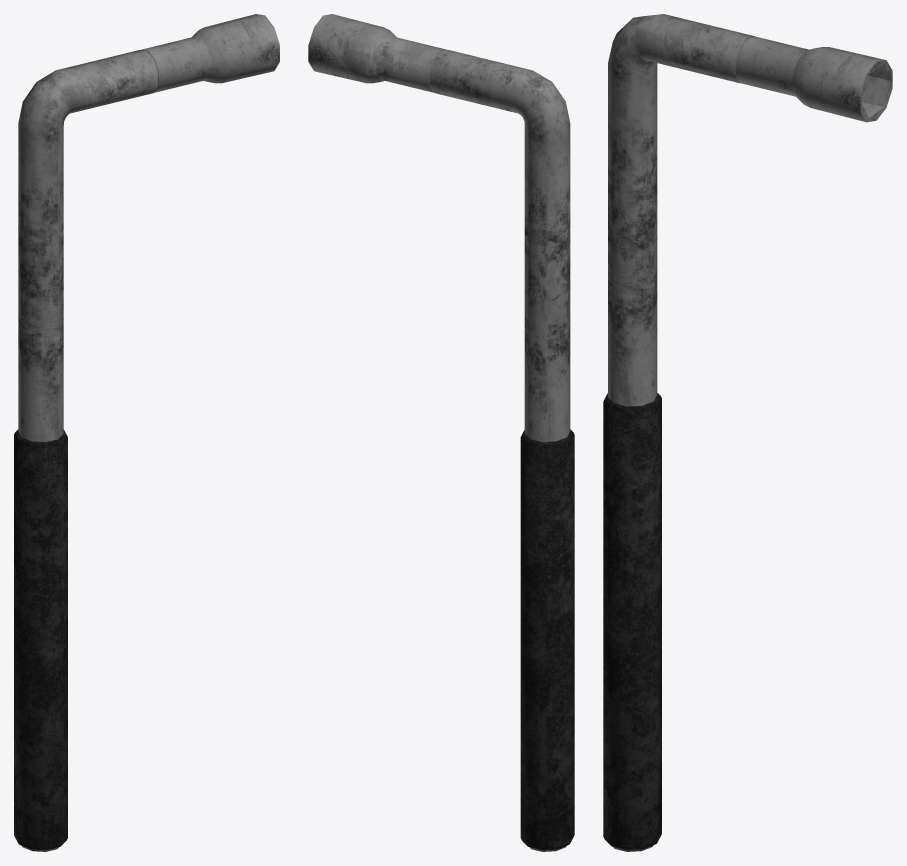
File: cc0-melee-weapons-pack-glb--tireiron.glb
The picture shows the model from 3 angles, left to right: view 1: azimuth 30°, elevation 25°; view 2: azimuth 150°, elevation 25°; view 3: azimuth 330°, elevation 25°; orthographic projection. The views are drawn at different scales.
Parts seen in each view (by area): view 1: Tire_Iron; view 2: Tire_Iron; view 3: Tire_Iron.
Boxes of the visible parts, left/top/right/bottom form: Tire_Iron: left=14, top=14, right=279, bottom=851; Tire_Iron: left=308, top=14, right=574, bottom=851; Tire_Iron: left=603, top=14, right=892, bottom=851.
Bounding box in the file's own units: 0.1268 × 0.3785 × 0.0262.
Materials: 1 (1 with a texture image).
